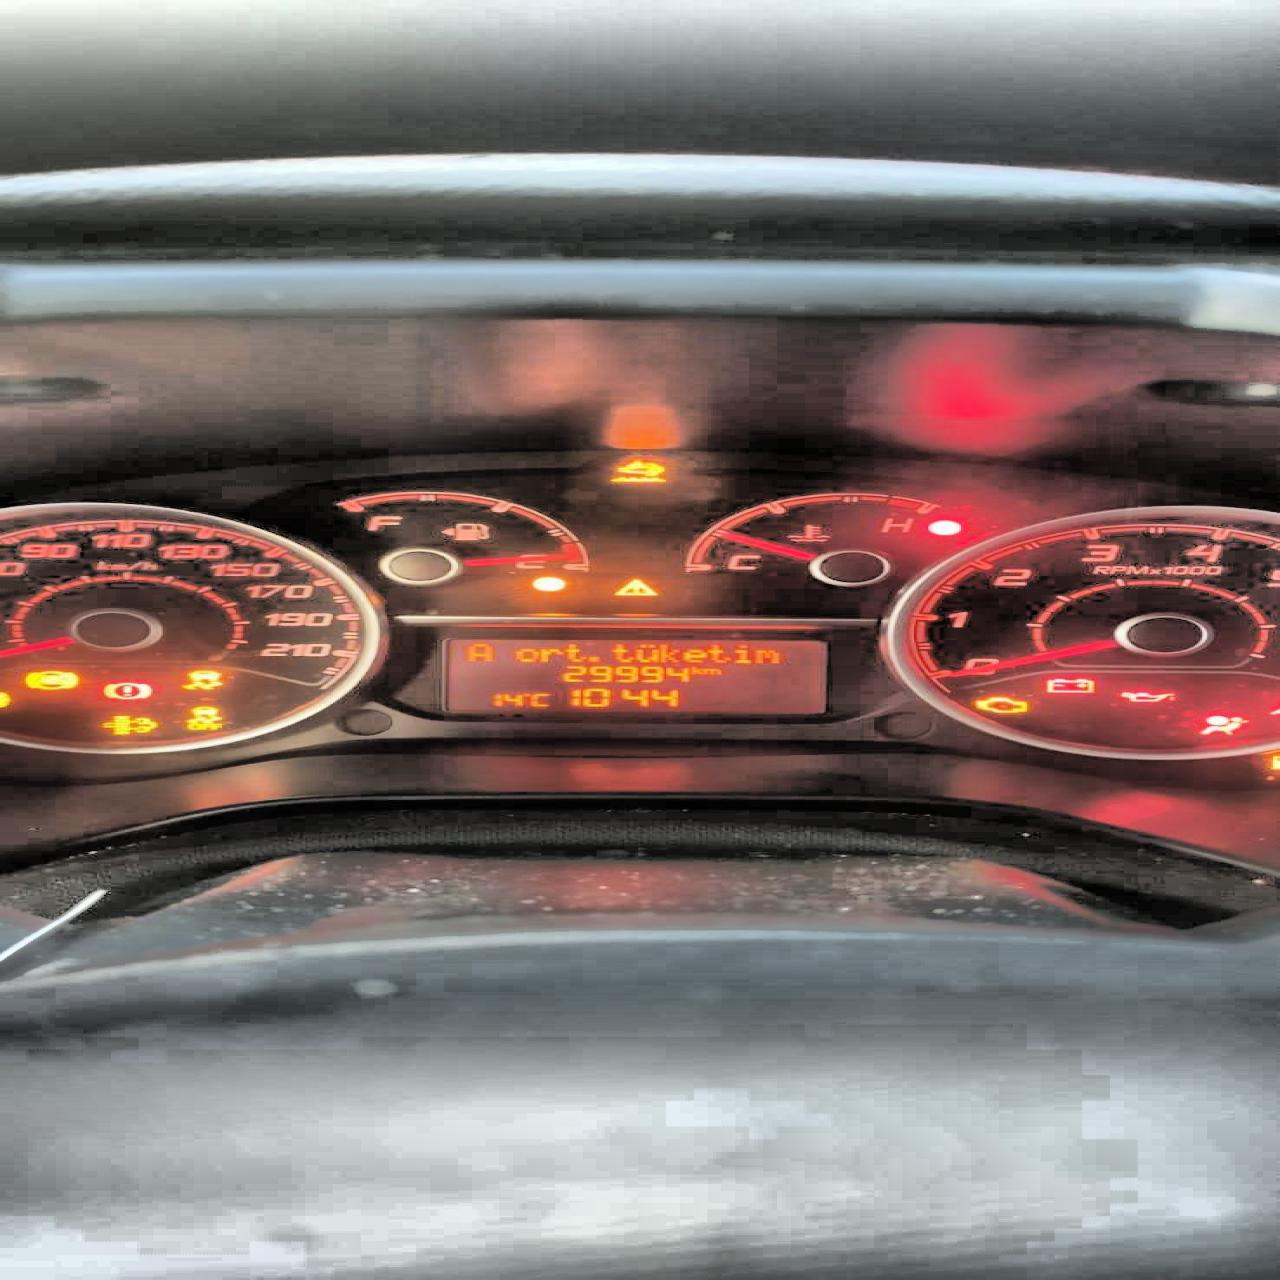-: (586, 654, 601, 661)
0: (581, 688, 611, 707)
1: (568, 688, 581, 707), (492, 693, 503, 707)
2: (560, 665, 585, 681)
4: (648, 688, 679, 707), (619, 688, 648, 707), (665, 666, 690, 681), (505, 693, 524, 707)
9: (612, 665, 636, 681), (586, 665, 611, 681), (639, 666, 662, 682)
X: (611, 641, 635, 662), (706, 642, 730, 663), (561, 641, 586, 661), (469, 642, 495, 661), (659, 642, 682, 661), (635, 644, 659, 662), (753, 648, 778, 663), (511, 648, 538, 662), (683, 648, 706, 663), (529, 692, 550, 707), (538, 648, 560, 662), (734, 644, 749, 663), (702, 667, 722, 674), (690, 666, 704, 674)
odometer: (440, 636, 831, 715)
